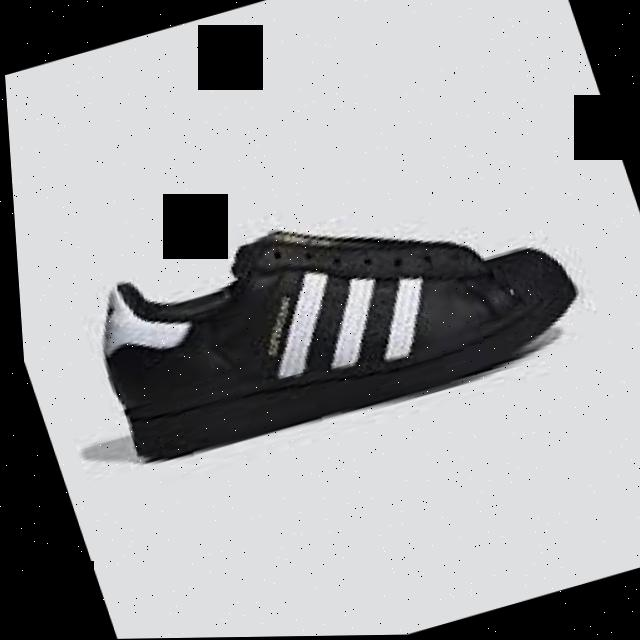shoe: (62, 151, 610, 478)
